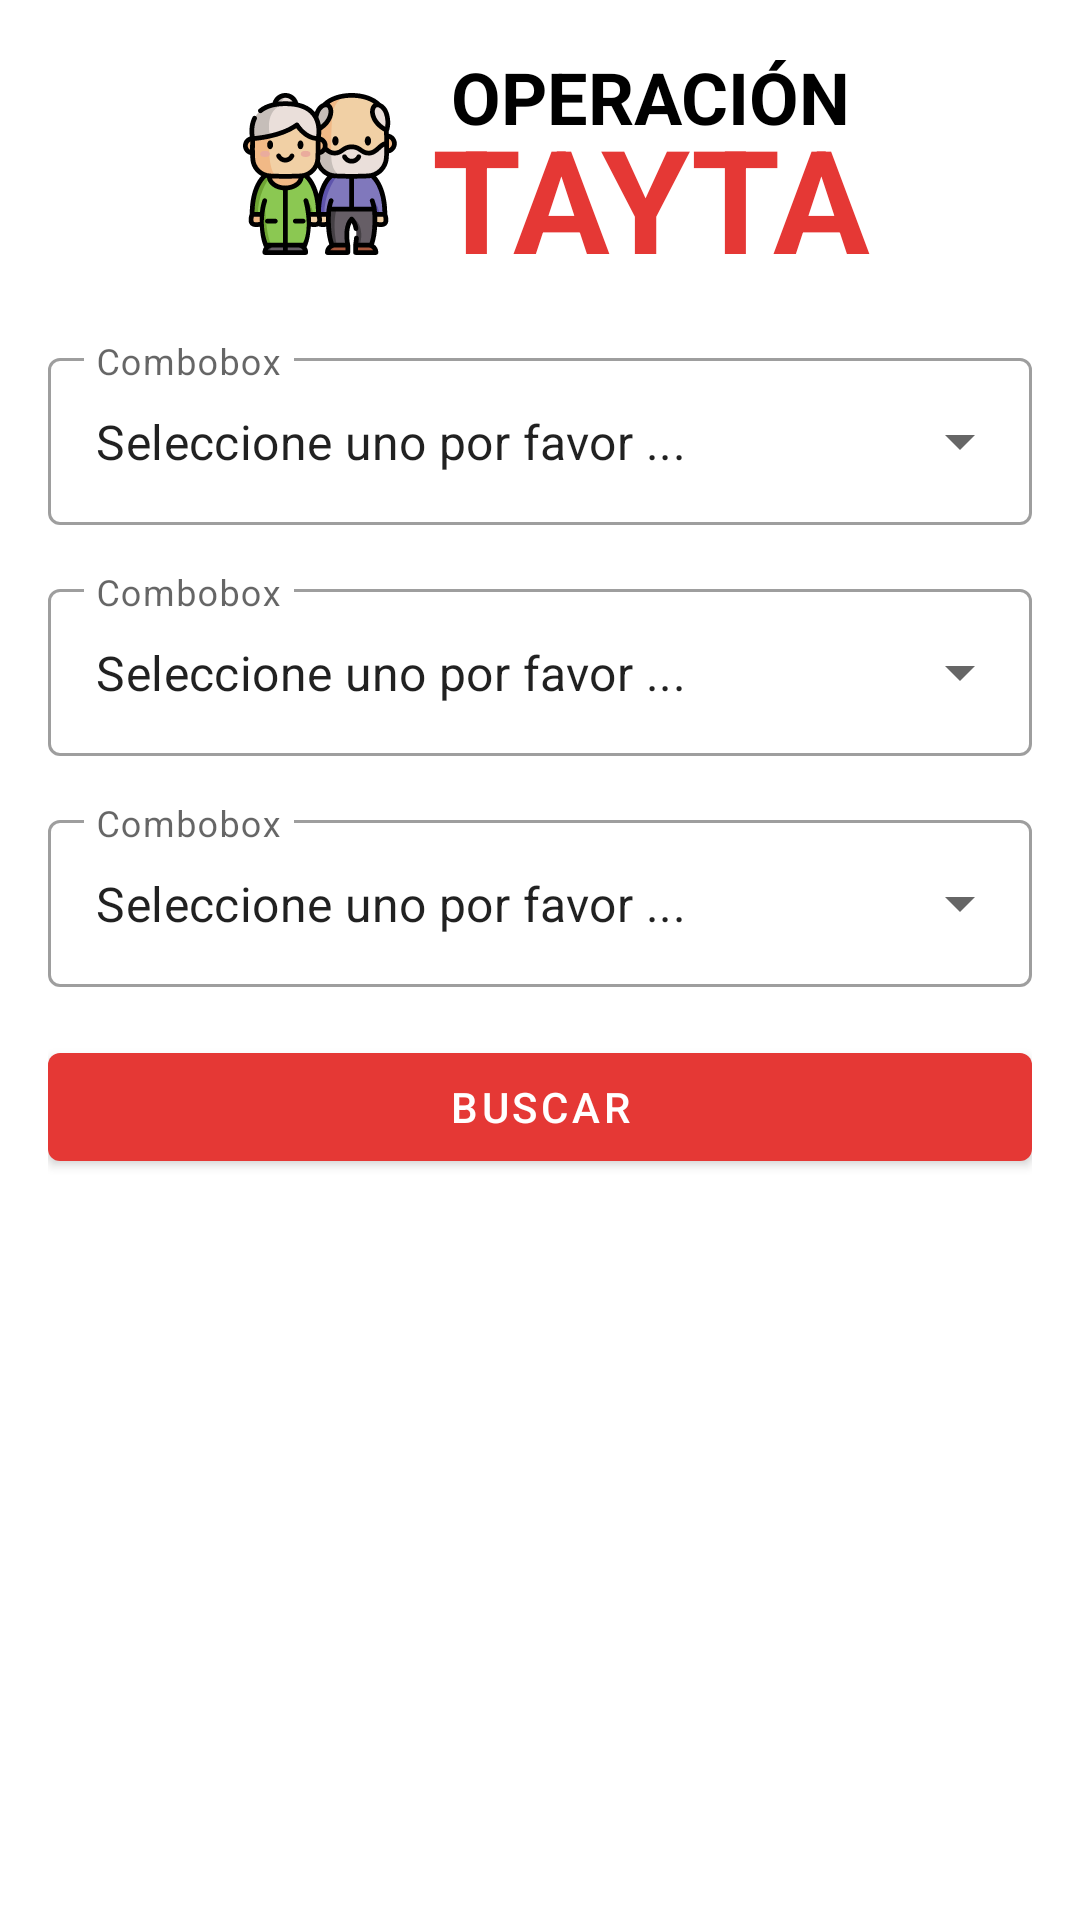

Named icons in this screenshot (1080 × 1920) and their bounding boxes, (left=x1, top=y1, right=x2, bottom=y2):
granparents: (left=243, top=93, right=397, bottom=255)
